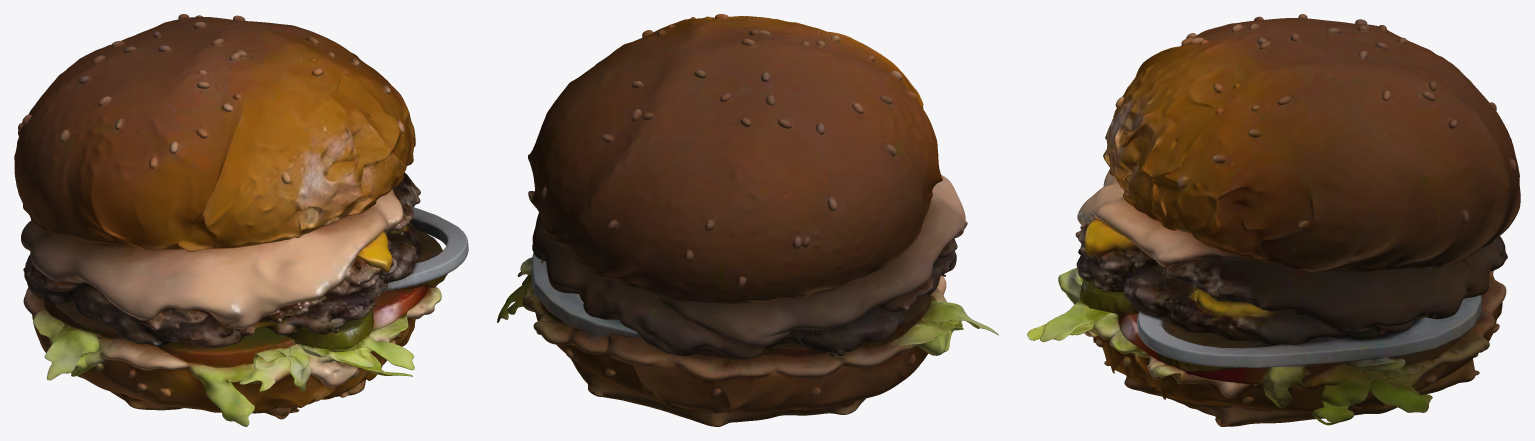
File: hamburguer-blackout.glb
3 views of the same model, side by side, from view 1: azimuth 30°, elevation 25°; view 2: azimuth 150°, elevation 25°; view 3: azimuth 270°, elevation 25° (orthographic). The views are drawn at different scales.
Parts seen in each view (by area): view 1: tripo_node_fdbde4fa-7a82-46e0-aa46-09a35e8c473f; view 2: tripo_node_fdbde4fa-7a82-46e0-aa46-09a35e8c473f; view 3: tripo_node_fdbde4fa-7a82-46e0-aa46-09a35e8c473f.
Boxes of the visible parts, <box> form: tripo_node_fdbde4fa-7a82-46e0-aa46-09a35e8c473f: <box>14,14,468,426</box>; tripo_node_fdbde4fa-7a82-46e0-aa46-09a35e8c473f: <box>497,14,998,426</box>; tripo_node_fdbde4fa-7a82-46e0-aa46-09a35e8c473f: <box>1027,14,1520,426</box>.
Bounding box in the file's own units: 0.11 × 0.08 × 0.11.
1 material, 1 textured.
